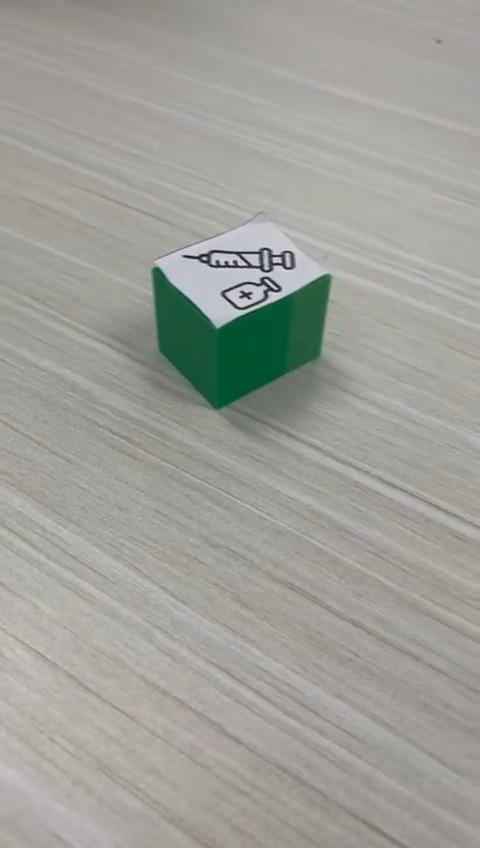antiseptic cream: (150, 210, 333, 410)
